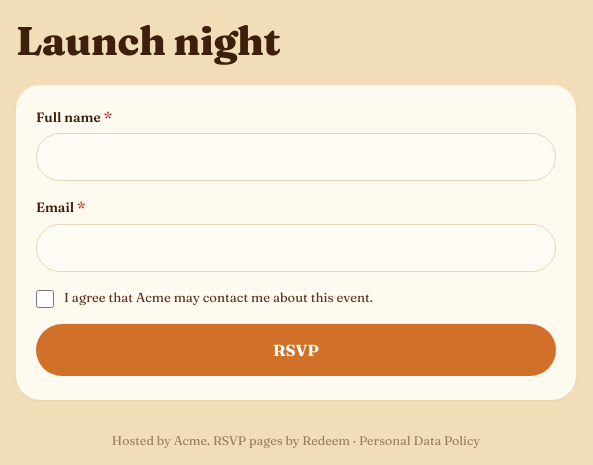
RsvpPublicPage › a "full" refusal flips the page into the full state
Expected: the heading "Launch night" is shown, [16,16,280,65]
Type "Alice" into the field labelled "Full name *". click: (296, 157)
box: [36,133,556,181]
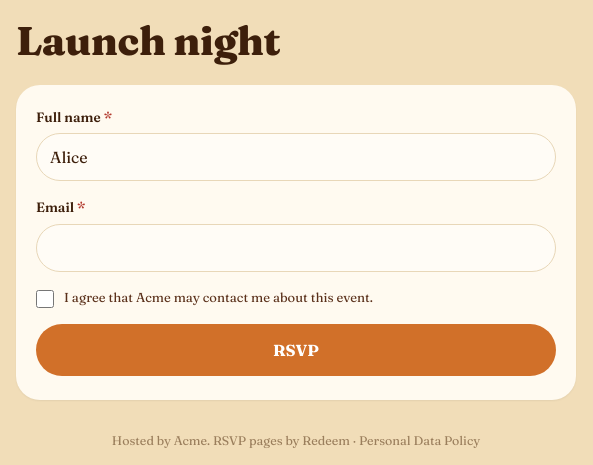
Type "alice@example.com" into the field labelled "Email *". click: (296, 248)
box: [36,224,556,272]
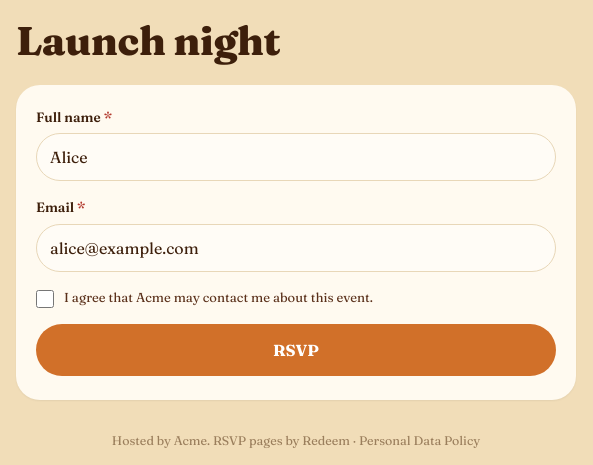
Click the checkbox labelled "I agree that Acme may contact me about this event.". click: (45, 298)
box: [36,290,54,308]
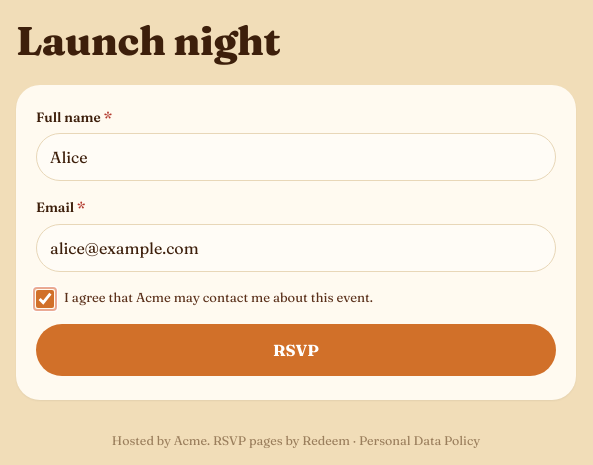
Click the button "RSVP". click: (296, 350)
box: [36,324,556,376]
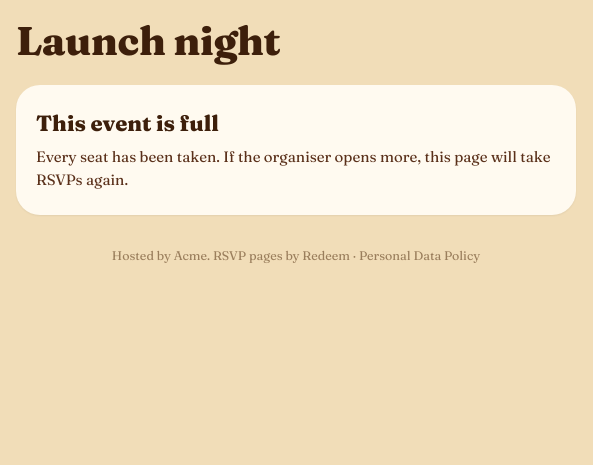
Now the heading "This event is full" is shown, box [36,109,219,137]
